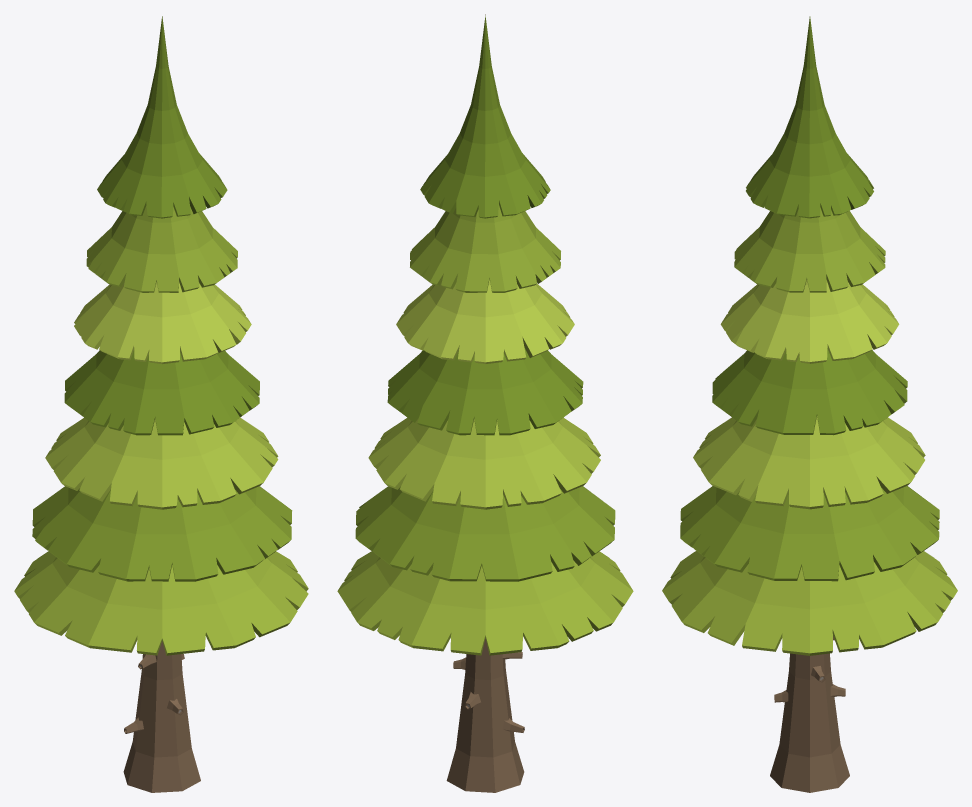
File: NHP_Tree_LP_C1_7m_01.fbx
3 views of the same model, side by side, from view 1: azimuth 30°, elevation 25°; view 2: azimuth 150°, elevation 25°; view 3: azimuth 270°, elevation 25° (orthographic).
Parts seen in each view (by area): view 1: NHP_Tree_LP_C1_7m_01_LOD0; view 2: NHP_Tree_LP_C1_7m_01_LOD0; view 3: NHP_Tree_LP_C1_7m_01_LOD0.
Boxes of the visible parts, bbox=[...] form: NHP_Tree_LP_C1_7m_01_LOD0: bbox=[14, 16, 308, 792]; NHP_Tree_LP_C1_7m_01_LOD0: bbox=[337, 14, 633, 792]; NHP_Tree_LP_C1_7m_01_LOD0: bbox=[662, 16, 957, 792].
Size of what is drawn, in the model's own units: 2.56 by 7.27 by 2.56.
